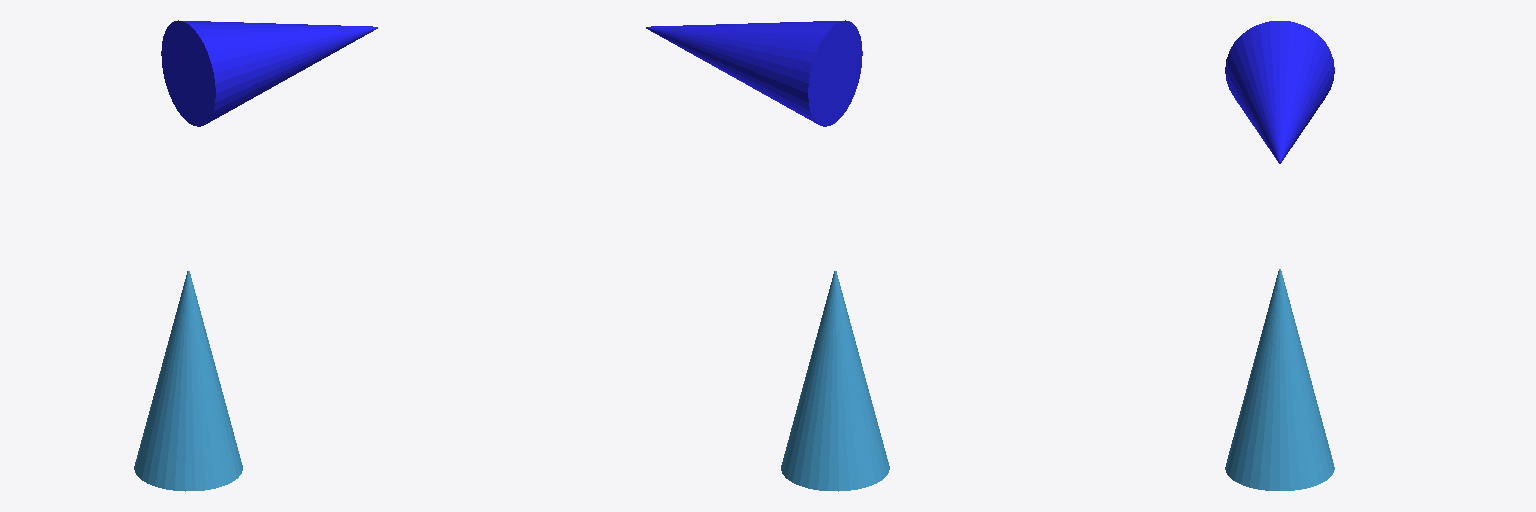
The robot description file, URDF, robot "simple_mechanism":
<?xml version="1.0"?>
<!-- created with Phobos 0.7 -->
  <robot name="simple_mechanism">
    <material name="Blue">
      <color rgba="0.2 0.2 1.0 1.0"/>
    </material>

    <link name="upper_cone">
      <visual name="upper_cone">
        <origin xyz="0 0 0" rpy="0 1.5708 0"/>
        <geometry>
          <mesh filename="cone.stl" scale="1 1 0.5"/>
        </geometry>
        <material name="Blue"/>
      </visual>
    </link>

    <link name="lower_cone">
      <visual name="lower_cone">
        <origin xyz="0 0 0" rpy="0 0 0"/>
        <geometry>
          <mesh filename="cone.stl" scale="1 1 0.5"/>
        </geometry>
      </visual>
    </link>

    <joint name="joint" type="revolute">
      <origin xyz="0 0 0.2" rpy="0 0 0"/>
      <parent link="lower_cone"/>
      <child link="upper_cone"/>
      <axis xyz="0 1 0"/>
      <limit lower="-2.79253" upper="2.79253" effort="0" velocity="0"/>
    </joint>

  </robot>

--- Render facts (derived) ---
Views: 3 orthographic renders of the robot side by side, from view 1: azimuth 30°, elevation 25°; view 2: azimuth 150°, elevation 25°; view 3: azimuth 270°, elevation 25°.
Model simple_mechanism with 2 links and 1 joints (1 revolute), rooted at lower_cone, posed all joints at 0.
Visible links, largest first — view 1: lower_cone, upper_cone; view 2: lower_cone, upper_cone; view 3: lower_cone, upper_cone.
Boxes of the visible links, left/top/right/bottom form: lower_cone: left=134, top=271, right=242, bottom=491; upper_cone: left=161, top=20, right=377, bottom=126; lower_cone: left=781, top=271, right=889, bottom=491; upper_cone: left=646, top=20, right=862, bottom=126; lower_cone: left=1225, top=269, right=1334, bottom=490; upper_cone: left=1225, top=21, right=1334, bottom=163.
Bounding box of the posed robot: 0.125 × 0.05 × 0.225 m (x, y, z).
Meshes: 1 distinct files referenced, 2 mesh visuals loaded (1 binary STL).